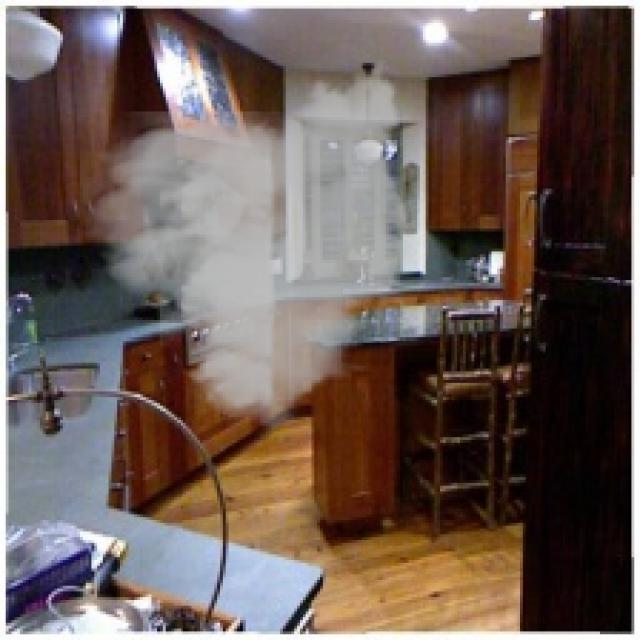Smoke: (80, 51, 423, 443)
